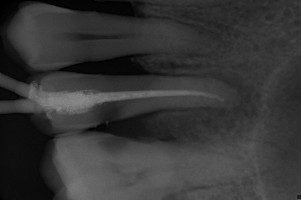Dental Caries: (136, 69, 263, 142)
